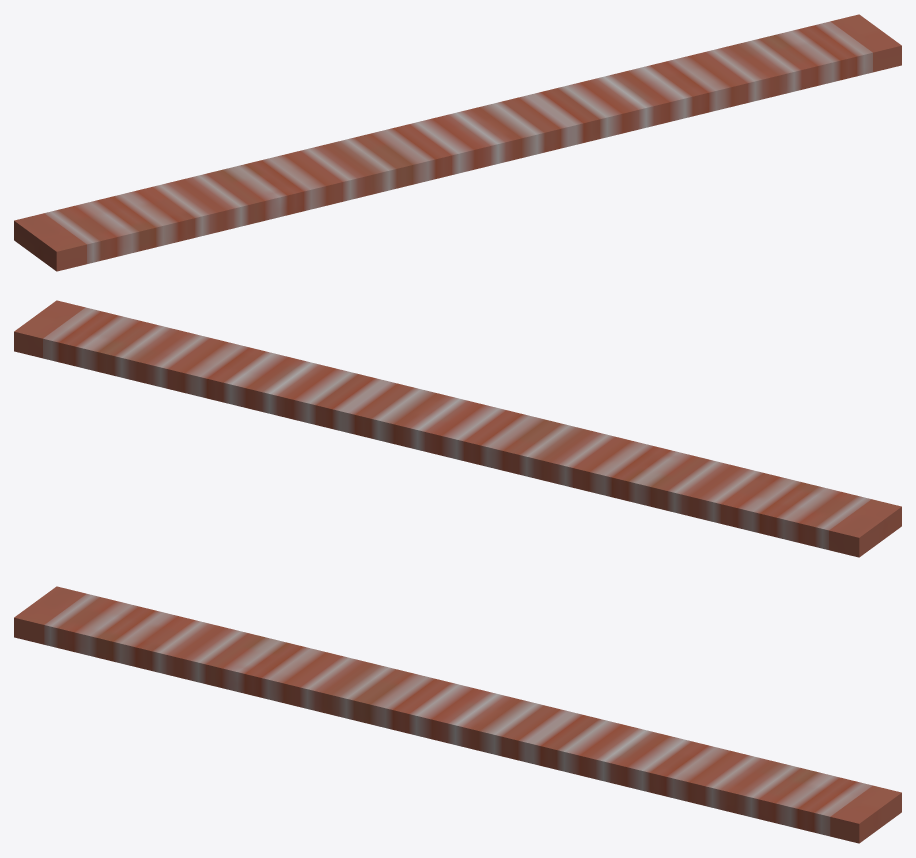
File: objects_un_t07brickedge01.gltf
3 renders of one model, top to bottom at view 1: azimuth 30°, elevation 25°; view 2: azimuth 150°, elevation 25°; view 3: azimuth 330°, elevation 25°, orthographic.
Parts seen in each view (by area): view 1: objects_un_t07brickedge01_mesh_shape:objects_un_t07brickedge; view 2: objects_un_t07brickedge01_mesh_shape:objects_un_t07brickedge; view 3: objects_un_t07brickedge01_mesh_shape:objects_un_t07brickedge.
Boxes of the visible parts, left/top/right/bottom form: objects_un_t07brickedge01_mesh_shape:objects_un_t07brickedge: left=14, top=14, right=901, bottom=271; objects_un_t07brickedge01_mesh_shape:objects_un_t07brickedge: left=14, top=300, right=901, bottom=557; objects_un_t07brickedge01_mesh_shape:objects_un_t07brickedge: left=14, top=586, right=901, bottom=843.
Size of the model in its own units: 3.24 by 0.0724 by 0.2836.
Materials: 1 (1 with a texture image).
